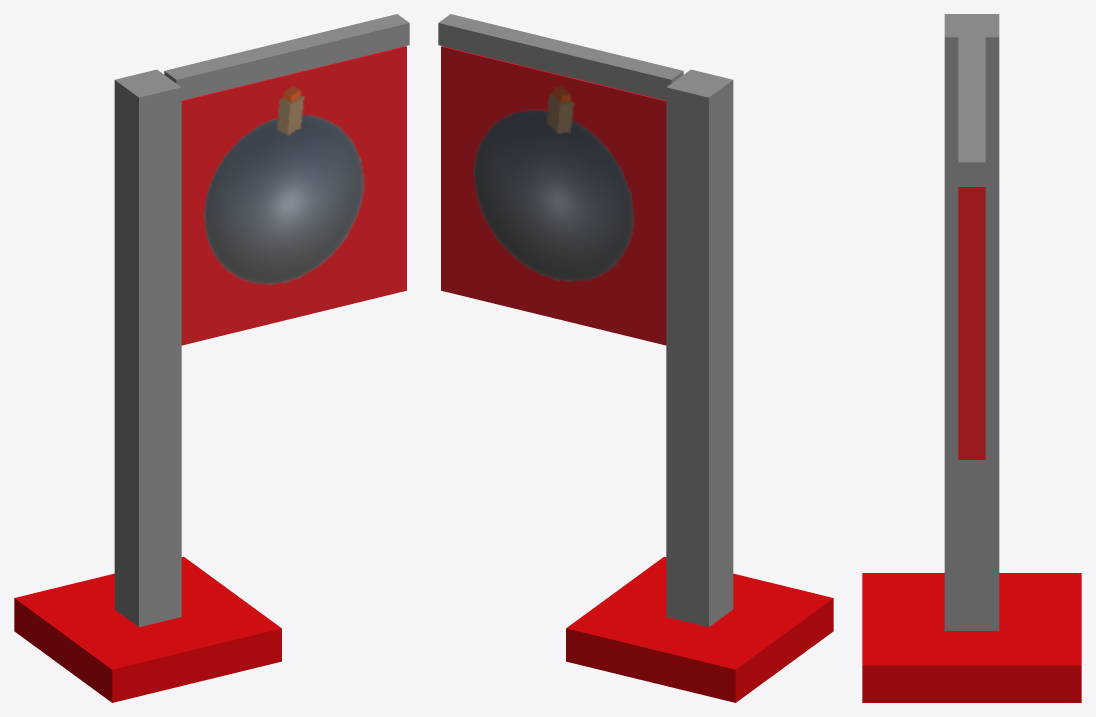
File: Flag.fbx
3 views of the same model, side by side, from view 1: azimuth 30°, elevation 25°; view 2: azimuth 150°, elevation 25°; view 3: azimuth 270°, elevation 25° (orthographic). The views are drawn at different scales.
Visible parts, largest first — view 1: Cube.003, Cube.001, Cube, Cube.002; view 2: Cube.003, Cube.001, Cube, Cube.002; view 3: Cube, Cube.001, Cube.003, Cube.002.
Part boxes in pixels (left/top/right/bottom): Cube.003: left=181, top=46, right=406, bottom=345; Cube.001: left=114, top=69, right=181, bottom=627; Cube: left=14, top=556, right=281, bottom=702; Cube.002: left=164, top=14, right=409, bottom=100; Cube.003: left=441, top=46, right=666, bottom=345; Cube.001: left=666, top=69, right=733, bottom=627; Cube: left=566, top=556, right=833, bottom=702; Cube.002: left=438, top=14, right=683, bottom=100; Cube: left=862, top=573, right=1081, bottom=702; Cube.001: left=944, top=14, right=999, bottom=630; Cube.003: left=958, top=187, right=985, bottom=459; Cube.002: left=958, top=34, right=985, bottom=186.
Size of the model in its own units: 321 by 510 by 160.
4 materials, 1 textured.
